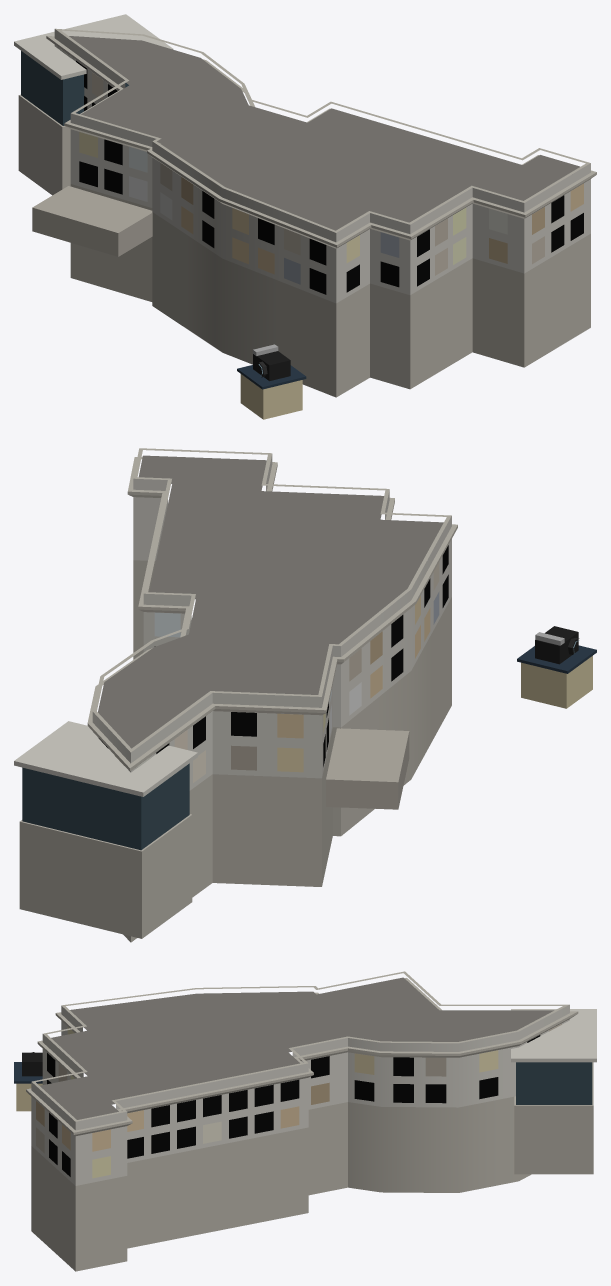
The model's file is cliffHouse_lod1.glb.
The picture shows the model from 3 angles, top to bottom: view 1: azimuth 30°, elevation 25°; view 2: azimuth 150°, elevation 25°; view 3: azimuth 270°, elevation 25°; orthographic projection. The views are drawn at different scales.
Visible parts, largest first — view 1: L1_concrete, L1_roof, L1_win, L1_glassc, L1_stucco, L1_paint; view 2: L1_concrete, L1_roof, L1_glassc, L1_win, L1_stucco, L1_paint; view 3: L1_concrete, L1_roof, L1_win, L1_glassc, L1_paint, L1_stucco.
Part boxes in pixels (x1,y1,x2,y2): L1_concrete: [14, 14, 596, 397]; L1_roof: [69, 36, 579, 230]; L1_win: [60, 49, 583, 294]; L1_glassc: [21, 51, 262, 376]; L1_stucco: [240, 374, 302, 419]; L1_paint: [237, 344, 306, 389]; L1_concrete: [14, 448, 457, 942]; L1_roof: [98, 455, 443, 748]; L1_glassc: [22, 640, 579, 850]; L1_win: [98, 545, 448, 782]; L1_stucco: [521, 656, 592, 708]; L1_paint: [517, 626, 596, 673]; L1_concrete: [26, 971, 596, 1271]; L1_roof: [40, 977, 554, 1119]; L1_win: [36, 1023, 561, 1178]; L1_glassc: [516, 1062, 592, 1104]; L1_paint: [14, 1052, 42, 1083]; L1_stucco: [16, 1083, 42, 1111].
Bounding box in the file's own units: 52.37 × 20.78 × 73.33.
